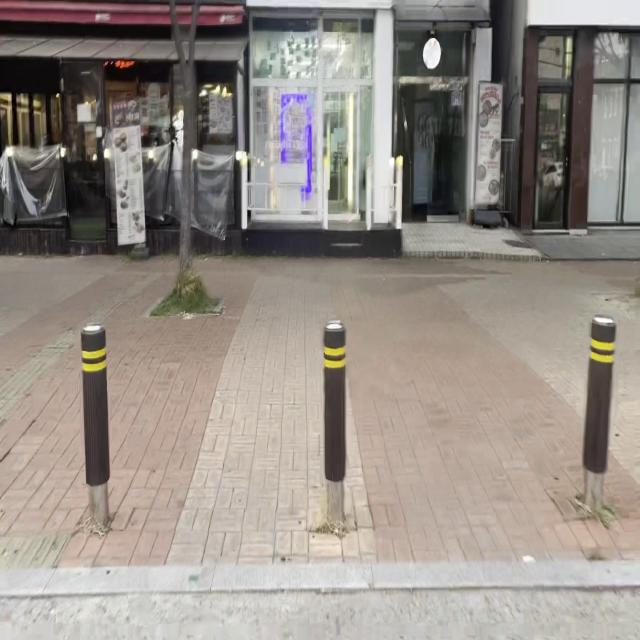tactile_paving: (0, 519, 64, 571), (11, 346, 45, 434)
